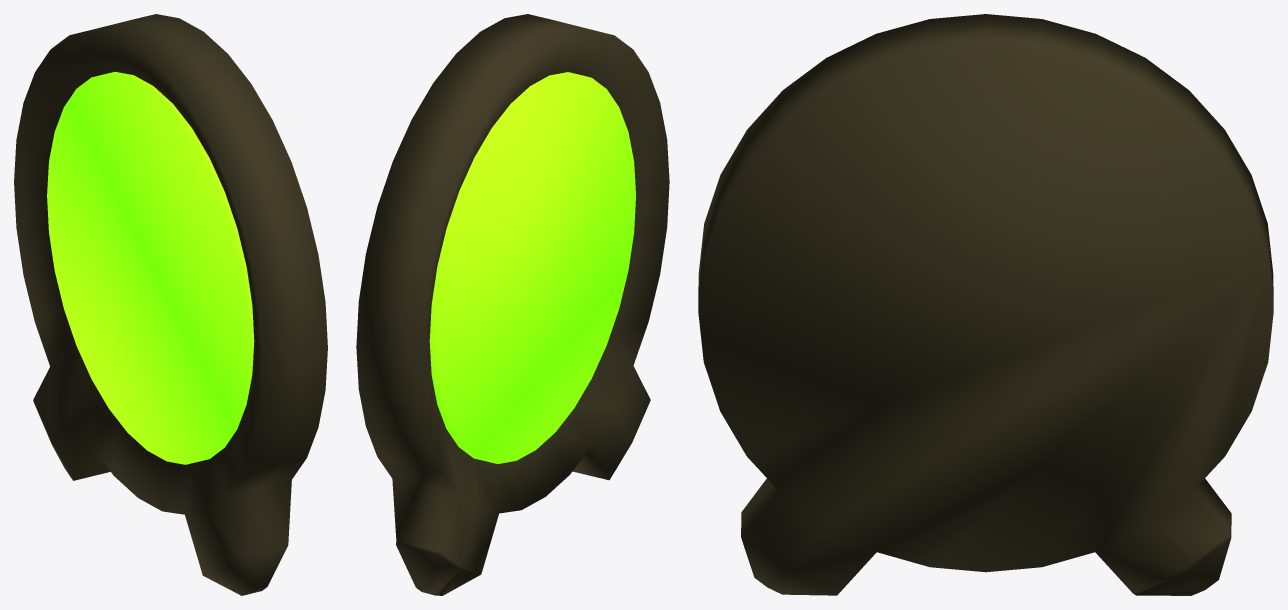
Rendered from Portal.fbx.
The picture shows the model from 3 angles, left to right: view 1: azimuth 30°, elevation 25°; view 2: azimuth 150°, elevation 25°; view 3: azimuth 270°, elevation 25°; orthographic projection. The views are drawn at different scales.
Parts seen in each view (by area): view 1: Circle; view 2: Circle; view 3: Circle.
Part boxes in pixels (bbox=[...]): Circle: bbox=[14, 14, 327, 595]; Circle: bbox=[356, 14, 669, 595]; Circle: bbox=[698, 14, 1273, 595].
Bounding box in the file's own units: 31.13 × 218 × 201.
